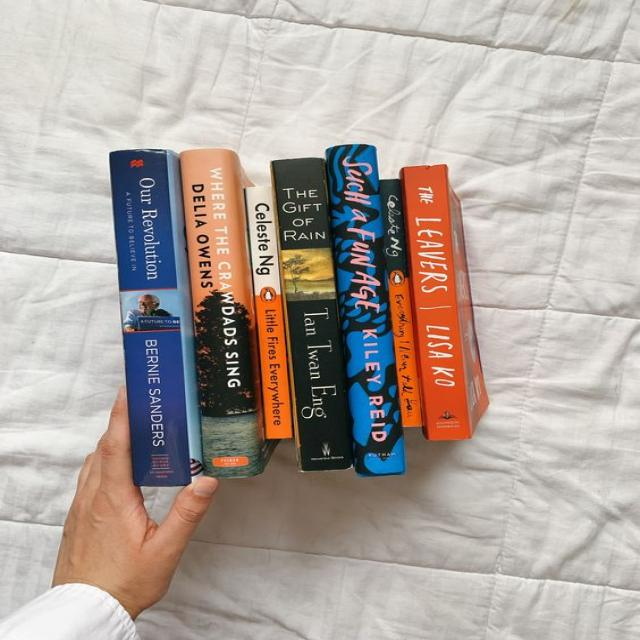book: (108, 149, 189, 486), (179, 149, 260, 478), (325, 146, 404, 477), (271, 157, 353, 473), (403, 165, 469, 443), (245, 187, 291, 438), (381, 179, 424, 427)
